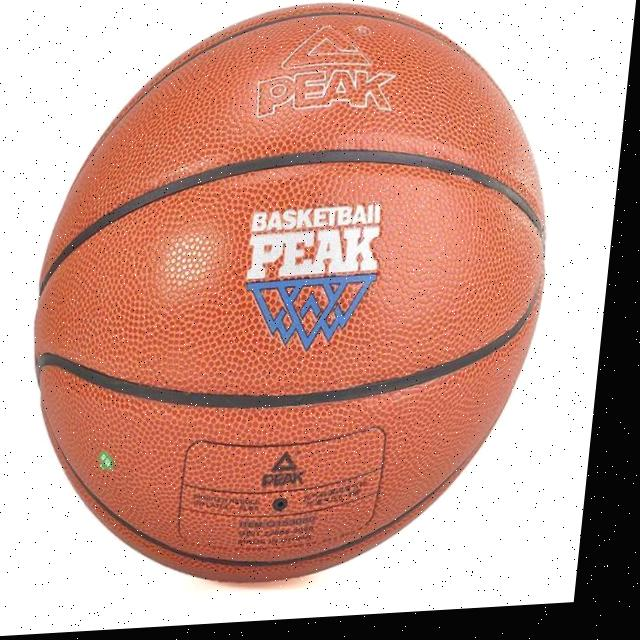Basketball: (6, 0, 575, 601)
